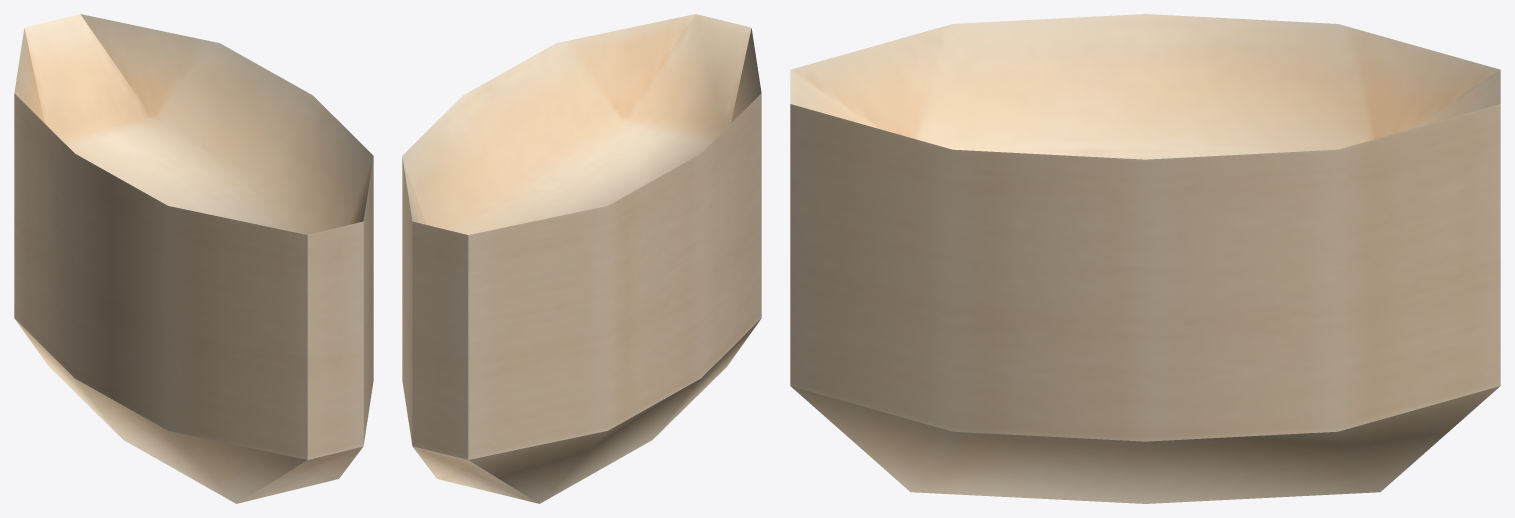
The model's file is jsf_BoatPlate_Set.fbx.
3 views of the same model, side by side, from view 1: azimuth 30°, elevation 25°; view 2: azimuth 150°, elevation 25°; view 3: azimuth 270°, elevation 25° (orthographic). The views are drawn at different scales.
Visible parts, largest first — view 1: jsf_BoatPlate_Set; view 2: jsf_BoatPlate_Set; view 3: jsf_BoatPlate_Set.
Boxes of the visible parts, bbox=[...] form: jsf_BoatPlate_Set: bbox=[14, 14, 373, 503]; jsf_BoatPlate_Set: bbox=[402, 14, 761, 503]; jsf_BoatPlate_Set: bbox=[790, 14, 1500, 503].
Size of the model in its own units: 10.18 by 12.2 by 21.
